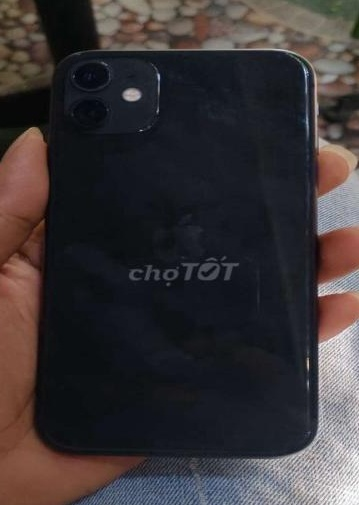scratch: (278, 42, 321, 446), (182, 77, 284, 147)
